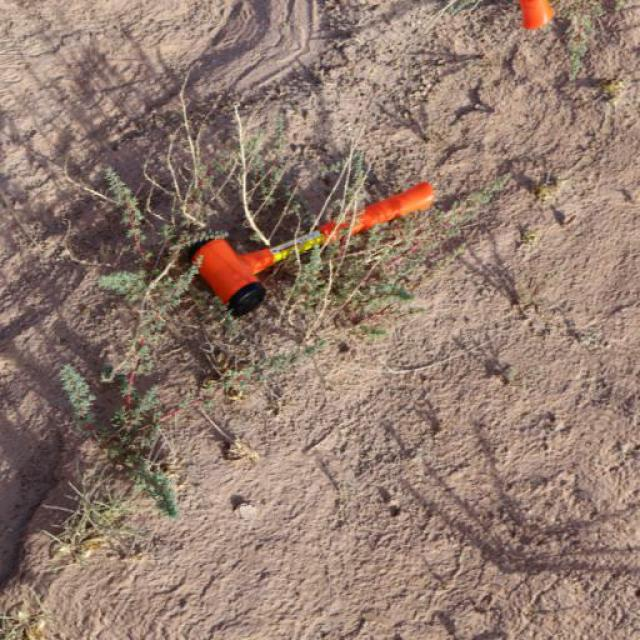mallet: (186, 178, 438, 318)
